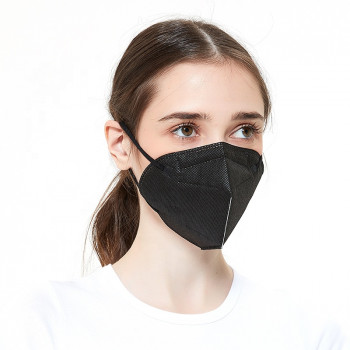with_mask: (154, 92, 254, 205)
